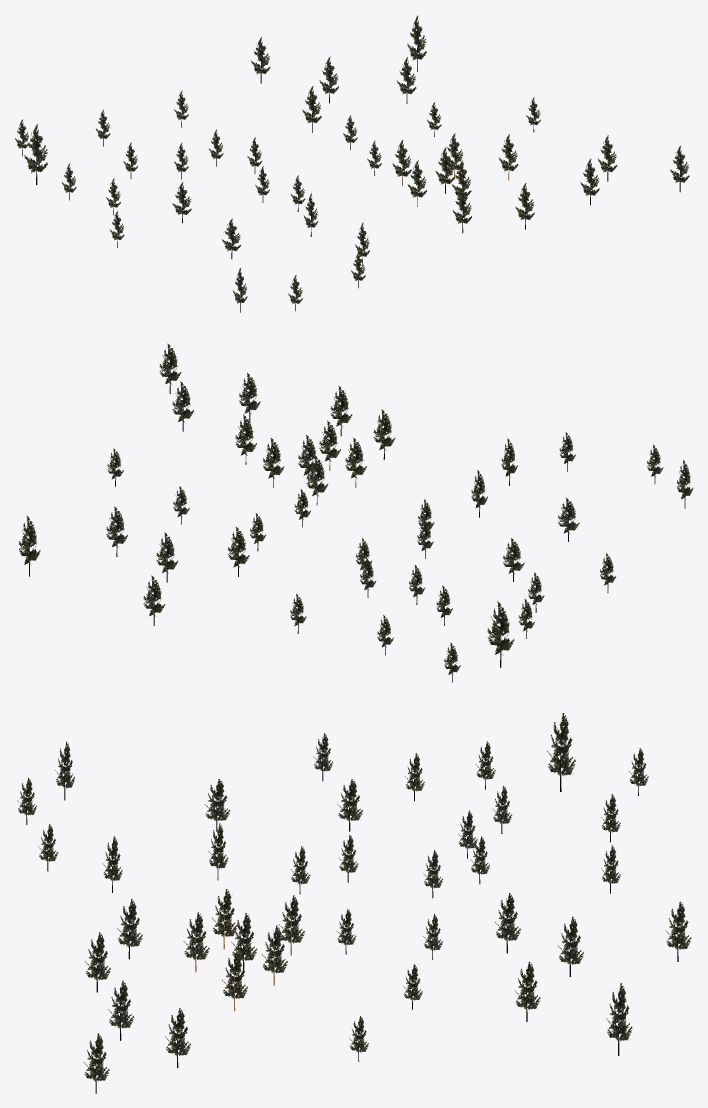
File: Vegetation.fbx
3 views of the same model, one above another, from view 1: azimuth 30°, elevation 25°; view 2: azimuth 150°, elevation 25°; view 3: azimuth 270°, elevation 25° (orthographic). The views are drawn at different scales.
Parts seen in each view (by area): view 1: polySurface661, polySurface479, polySurface240, polySurface539, polySurface453, polySurface613, polySurface426, polySurface19, polySurface317, polySurface551; view 2: polySurface661, polySurface479, polySurface240, polySurface539, polySurface453, polySurface613, polySurface426, polySurface19, polySurface317, polySurface551; view 3: polySurface661, polySurface479, polySurface240, polySurface539, polySurface453, polySurface613, polySurface426, polySurface317, polySurface19, polySurface551.
Boxes of the visible parts, box(x1,y1,x2,y2) form: polySurface661: box(392, 133, 518, 206); polySurface479: box(251, 15, 426, 103); polySurface240: box(15, 90, 188, 184); polySurface539: box(61, 163, 240, 259); polySurface453: box(526, 97, 689, 205); polySurface613: box(302, 86, 441, 175); polySurface426: box(232, 222, 369, 312); polySurface19: box(452, 183, 534, 233); polySurface317: box(255, 166, 318, 236); polySurface551: box(174, 129, 261, 179); polySurface661: box(235, 414, 366, 505); polySurface479: box(19, 506, 177, 625); polySurface240: box(290, 585, 514, 682); polySurface539: box(503, 497, 616, 638); polySurface453: box(107, 343, 260, 486); polySurface613: box(173, 486, 310, 576); polySurface426: box(501, 432, 693, 508); polySurface19: box(330, 385, 395, 459); polySurface317: box(417, 470, 487, 558); polySurface551: box(356, 538, 425, 604); polySurface661: box(183, 889, 304, 1011); polySurface479: box(514, 901, 691, 1055); polySurface240: box(492, 713, 648, 893); polySurface539: box(204, 733, 495, 831); polySurface453: box(84, 980, 368, 1093); polySurface613: box(337, 893, 520, 1009); polySurface426: box(17, 741, 122, 892); polySurface317: box(208, 823, 358, 893); polySurface19: box(85, 899, 142, 992); polySurface551: box(423, 810, 489, 898).
Bounding box in the file's own units: 21879 × 2584 × 19291.
Materials: 3 (2 with a texture image).
